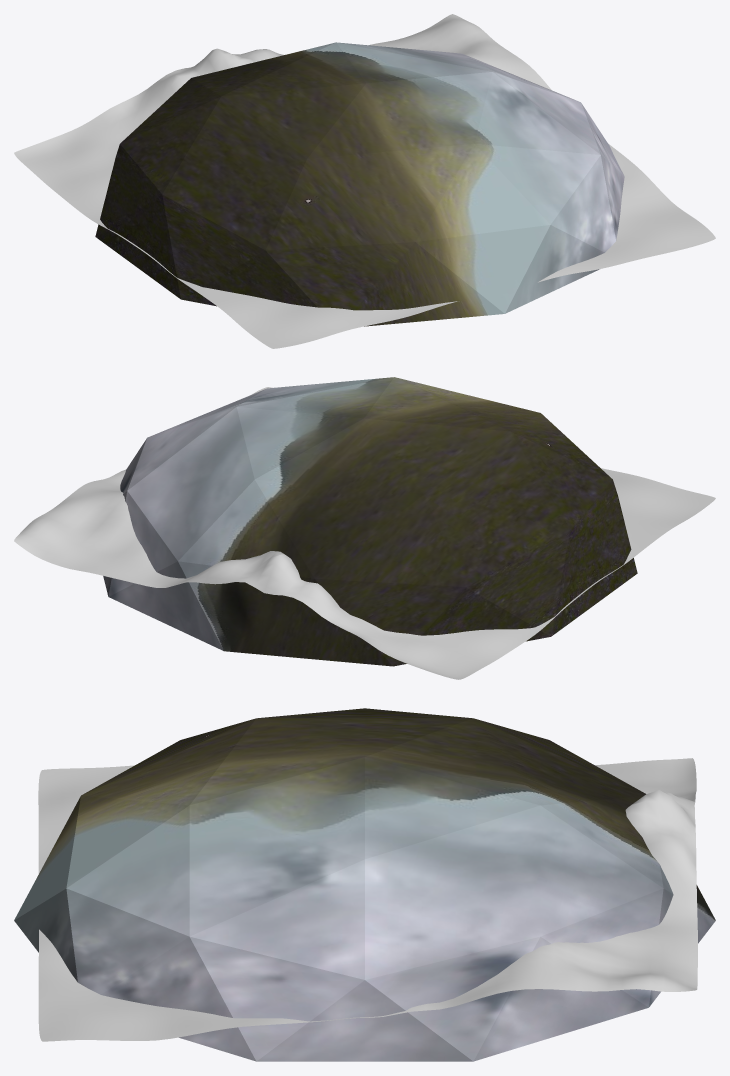
The model's file is skydome.fbx.
3 views of the same model, one above another, from view 1: azimuth 30°, elevation 25°; view 2: azimuth 150°, elevation 25°; view 3: azimuth 270°, elevation 25° (orthographic). The views are drawn at different scales.
Parts seen in each view (by area): view 1: Sky_Dome, Land; view 2: Sky_Dome, Land; view 3: Sky_Dome, Land.
Boxes of the visible parts, x1,y1,x2,y2 form: Sky_Dome: [95, 42, 624, 326]; Land: [14, 14, 715, 348]; Sky_Dome: [103, 377, 637, 666]; Land: [14, 387, 715, 679]; Sky_Dome: [14, 708, 715, 1061]; Land: [38, 758, 697, 1041].
Size of the model in its own units: 4.52 by 1.22 by 4.75.
